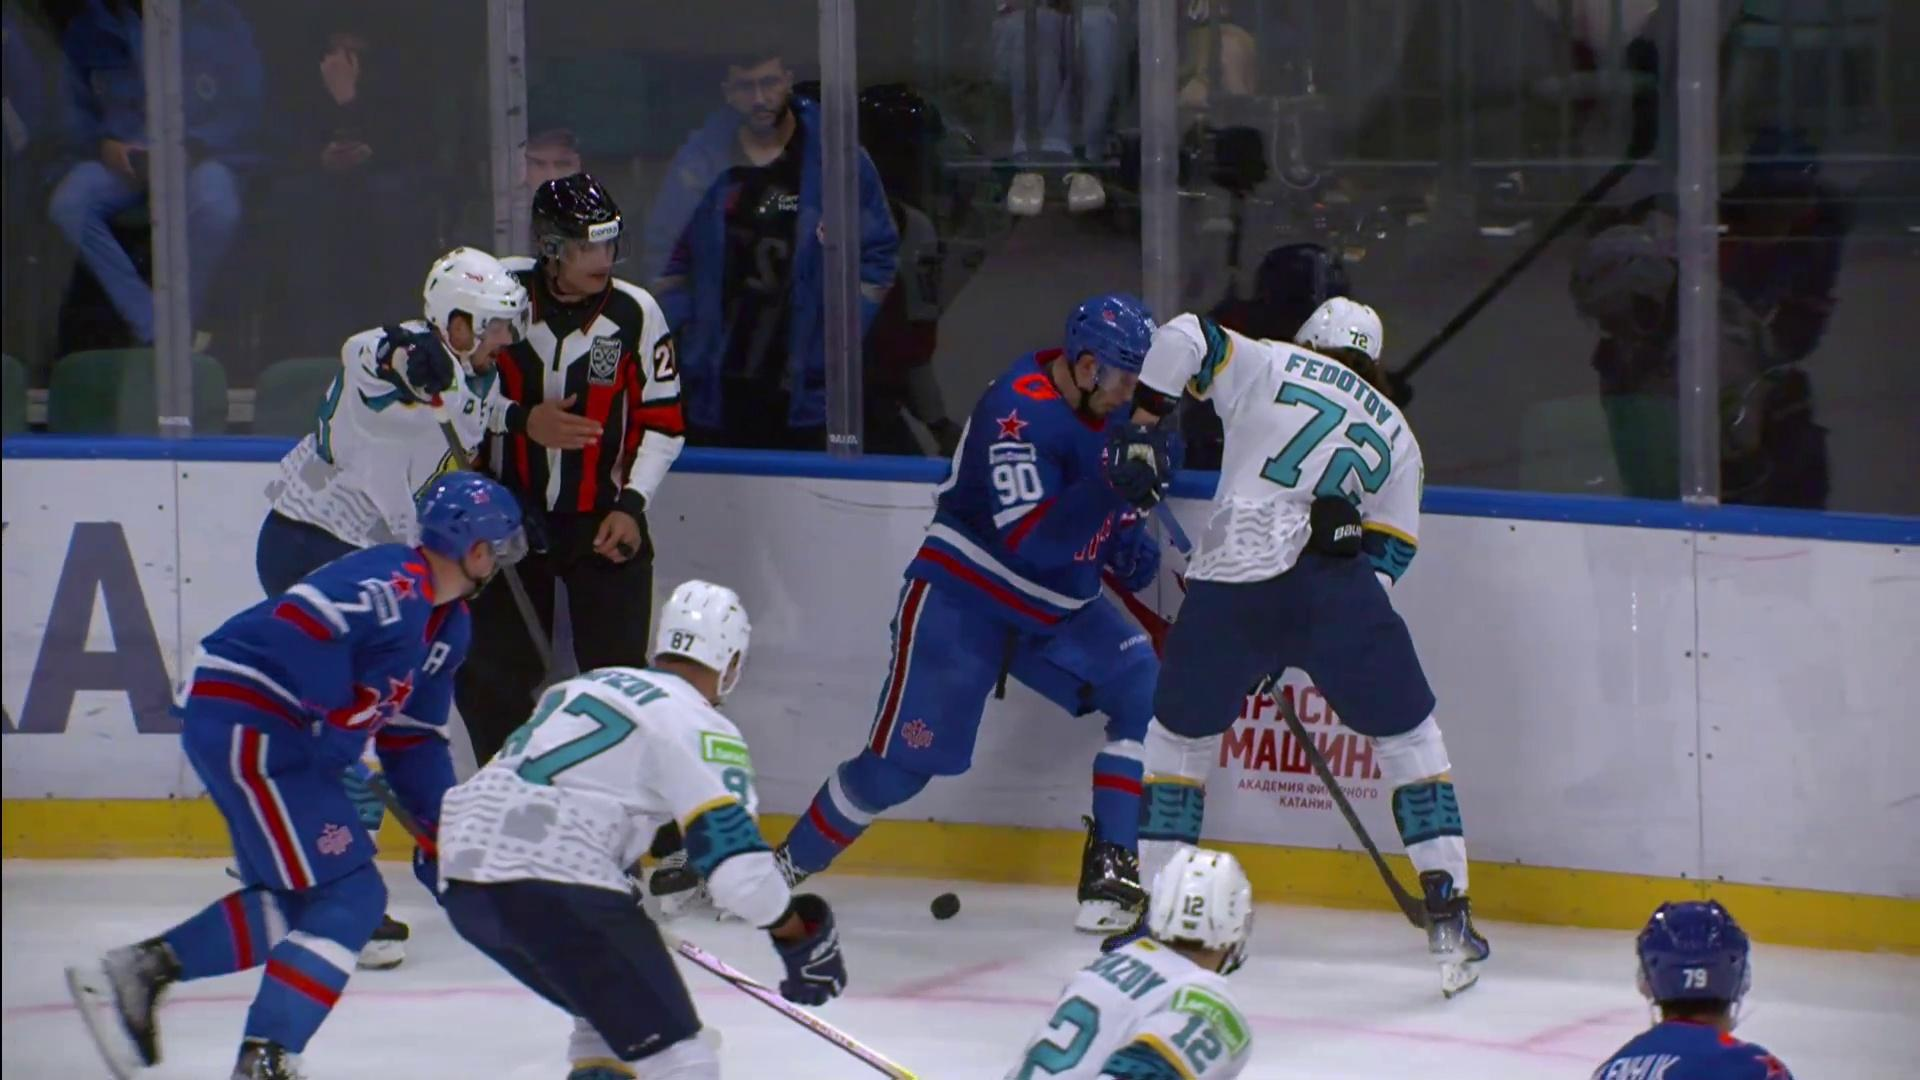ball: (931, 893, 960, 919)
